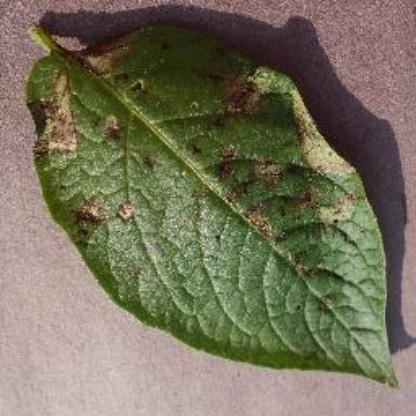Late-Blight: (20, 21, 402, 393)
